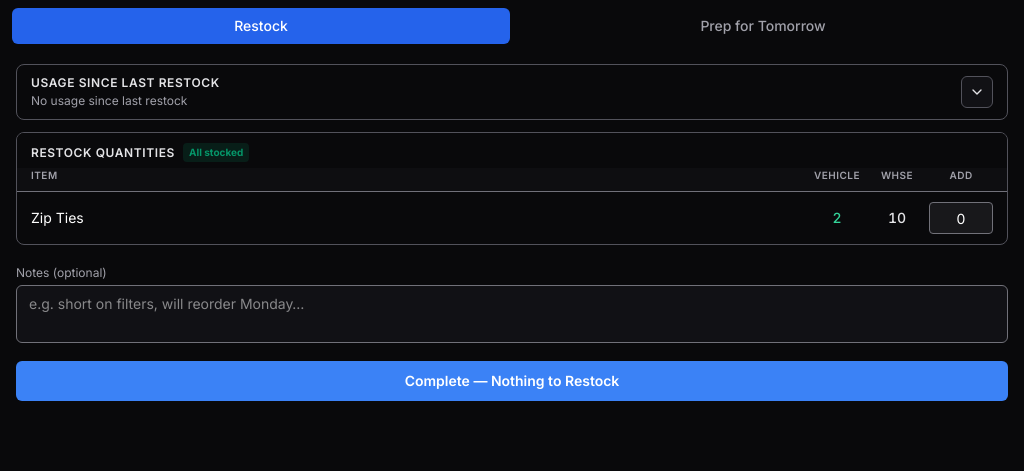
Test case: RestockWorkflow — mobile field layout › the usage panel is a labelled, collapsed disclosure
Click the button "Usage Since Last Restock No usage since last restock". click: {"x": 125, "y": 82}
box: x1=17 y1=65 x2=1007 y2=119
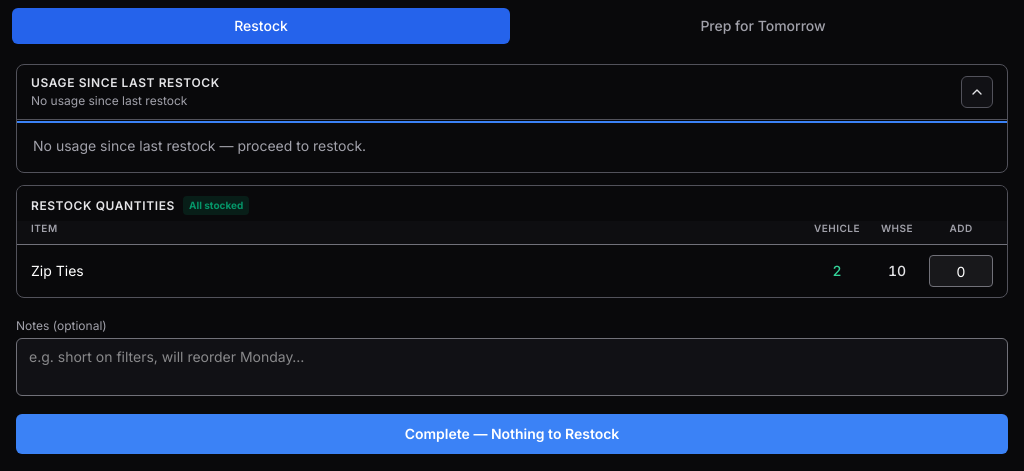
Expected: the button "Usage Since Last Restock No usage since last restock" is expanded, x1=17 y1=65 x2=1007 y2=119
